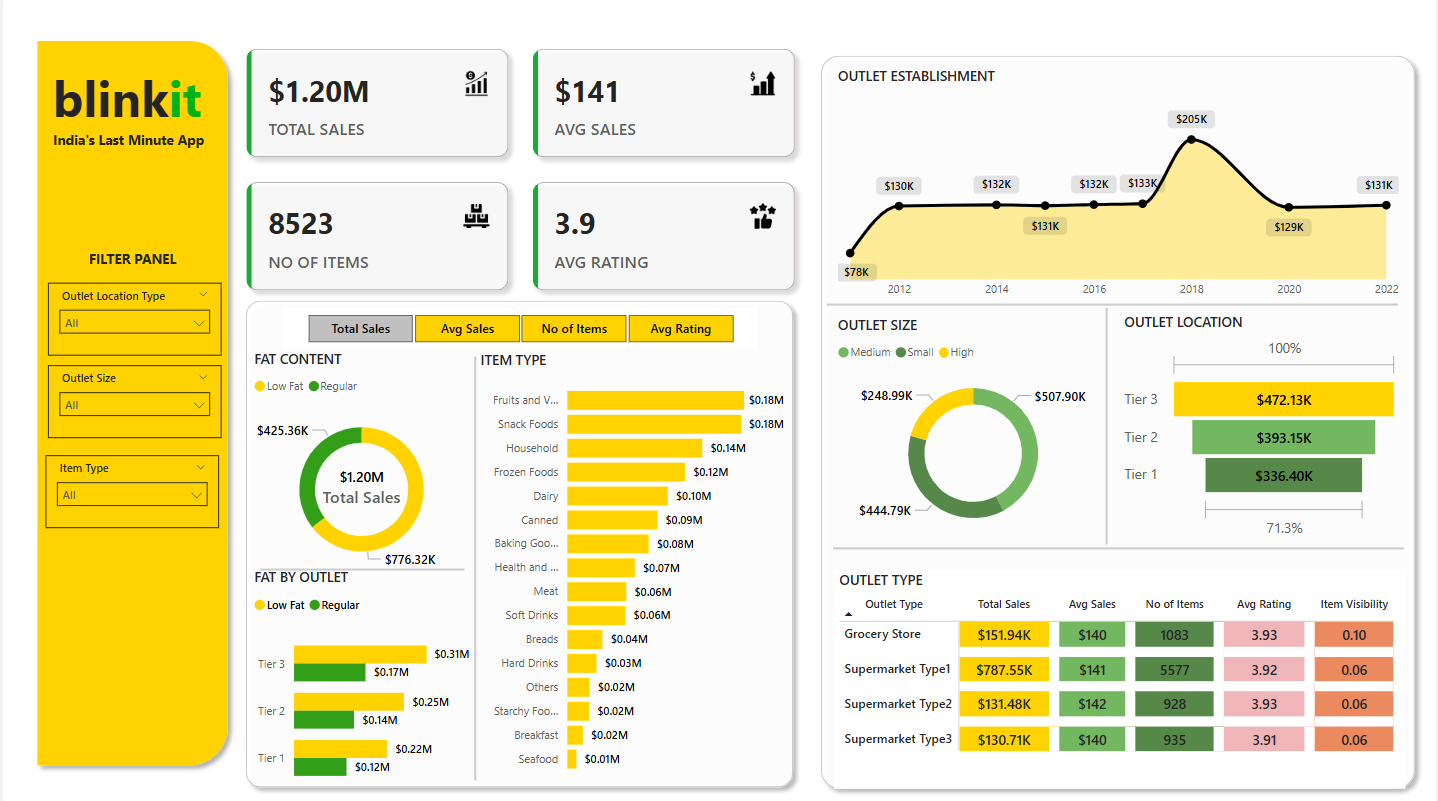

The page's visual inventory and layout, read from the dashboard file:
{"tool":"powerbi","page":{"name":"Page 1","canvas":[1400,800],"ordinal":0},"visuals":[{"type":"shape","box":[24.2,36.3,204.4,726.3],"z":0},{"type":"textbox","box":[44.4,63.2,169.5,78],"z":1000},{"type":"textbox","box":[24.2,127.8,196.4,28.2],"z":2000},{"type":"cardVisual","fields":{"Data":["BlinkIT Grocery Data.Total Sales","BlinkIT Grocery Data.Avg Sales","BlinkIT Grocery Data.No of Items","BlinkIT Grocery Data.Avg Rating"]},"box":[220.6,36.3,570.3,270.3],"z":3000},{"type":"shape","box":[228.6,290.5,552.8,493.6],"z":4000},{"type":"donutChart","title":"FAT CONTENT","fields":{"Y":["BlinkIT Grocery Data.Total Sales"],"Category":["BlinkIT Grocery Data.Item Fat Content"]},"box":[240.8,347,220.6,230],"z":5000},{"type":"slicer","fields":{"Values":["Metrics.Metrics"]},"box":[273,306.7,465.4,40.3],"z":6000},{"type":"cardVisual","fields":{"Data":["BlinkIT Grocery Data.Total Sales"]},"box":[291.9,443.8,117,78],"z":7000},{"type":"clusteredBarChart","title":"FAT BY OUTLET","fields":{"Y":["BlinkIT Grocery Data.Total Sales"],"Category":["BlinkIT Grocery Data.Outlet Location Type"],"Series":["BlinkIT Grocery Data.Item Fat Content"]},"box":[240.8,560.9,220.6,228.6],"z":8000},{"type":"barChart","title":"ITEM TYPE","fields":{"Y":["BlinkIT Grocery Data.Total Sales"],"Category":["BlinkIT Grocery Data.Item Type"]},"box":[461.3,348.4,306.7,423.7],"z":9000},{"type":"shape","box":[790.9,51.1,598.5,734.4],"z":10000},{"type":"lineChart","title":"OUTLET ESTABLISHMENT","fields":{"Y":["BlinkIT Grocery Data.Total Sales"],"Category":["BlinkIT Grocery Data.Outlet Establishment Year"]},"box":[811,71.3,558.2,235.4],"z":11000},{"type":"donutChart","title":"OUTLET SIZE","fields":{"Y":["BlinkIT Grocery Data.Total Sales"],"Category":["BlinkIT Grocery Data.Outlet Size"]},"box":[811,313.4,274.4,224.6],"z":12000},{"type":"funnel","title":"OUTLET LOCATION","fields":{"Y":["BlinkIT Grocery Data.Total Sales"],"Category":["BlinkIT Grocery Data.Outlet Location Type"]},"box":[1090.8,312,278.4,226],"z":13000},{"type":"shape","box":[811,535.3,558.2,13.4],"z":14000},{"type":"shape","box":[450.6,353.7,21.5,414.3],"z":15000},{"type":"shape","box":[1073.3,306.7,12.1,231.3],"z":16000},{"type":"shape","box":[251.5,548.8,199.1,28.2],"z":17000},{"type":"pivotTable","title":"OUTLET TYPE","fields":{"Rows":["BlinkIT Grocery Data.Outlet Type"],"Values":["BlinkIT Grocery Data.Total Sales","BlinkIT Grocery Data.Avg Sales","BlinkIT Grocery Data.No of Items","BlinkIT Grocery Data.Avg Rating","Avg(BlinkIT Grocery Data.Item Visibility)"]},"box":[812.4,563.6,558.2,213.9],"z":18000},{"type":"shape","box":[805.7,297.2,558.2,13.4],"z":19000},{"type":"slicer","fields":{"Values":["BlinkIT Grocery Data.Outlet Location Type"]},"box":[44.4,282.4,169.5,71.3],"z":20000},{"type":"slicer","fields":{"Values":["BlinkIT Grocery Data.Outlet Size"]},"box":[44.4,363.1,169.5,71.3],"z":21000},{"type":"slicer","fields":{"Values":["BlinkIT Grocery Data.Item Type"]},"box":[41.7,450.6,169.5,71.3],"z":22000},{"type":"textbox","box":[59.2,244.8,135.8,28.2],"z":23000}]}

Visuals, with their boxes in screenshot pixels (x1, y1, x2, y2), scaled from the page's 1400x800 canvas onto the 1438x801 screenshot:
shape: {"x1": 25, "y1": 36, "x2": 235, "y2": 764}
textbox: {"x1": 46, "y1": 63, "x2": 220, "y2": 141}
textbox: {"x1": 25, "y1": 128, "x2": 227, "y2": 156}
cardVisual - BlinkIT Grocery Data.Total Sales x BlinkIT Grocery Data.Avg Sales: {"x1": 227, "y1": 36, "x2": 812, "y2": 307}
shape: {"x1": 235, "y1": 291, "x2": 803, "y2": 785}
"FAT CONTENT" donutChart: {"x1": 247, "y1": 347, "x2": 474, "y2": 578}
slicer - Metrics.Metrics: {"x1": 280, "y1": 307, "x2": 758, "y2": 347}
cardVisual - BlinkIT Grocery Data.Total Sales: {"x1": 300, "y1": 444, "x2": 420, "y2": 522}
"FAT BY OUTLET" clusteredBarChart: {"x1": 247, "y1": 562, "x2": 474, "y2": 790}
"ITEM TYPE" barChart: {"x1": 474, "y1": 349, "x2": 789, "y2": 773}
shape: {"x1": 812, "y1": 51, "x2": 1427, "y2": 786}
"OUTLET ESTABLISHMENT" lineChart: {"x1": 833, "y1": 71, "x2": 1406, "y2": 307}
"OUTLET SIZE" donutChart: {"x1": 833, "y1": 314, "x2": 1115, "y2": 539}
"OUTLET LOCATION" funnel: {"x1": 1120, "y1": 312, "x2": 1406, "y2": 539}
shape: {"x1": 833, "y1": 536, "x2": 1406, "y2": 549}
shape: {"x1": 463, "y1": 354, "x2": 485, "y2": 769}
shape: {"x1": 1102, "y1": 307, "x2": 1115, "y2": 539}
shape: {"x1": 258, "y1": 549, "x2": 463, "y2": 578}
"OUTLET TYPE" pivotTable: {"x1": 834, "y1": 564, "x2": 1408, "y2": 778}
shape: {"x1": 828, "y1": 298, "x2": 1401, "y2": 311}
slicer - BlinkIT Grocery Data.Outlet Location Type: {"x1": 46, "y1": 283, "x2": 220, "y2": 354}
slicer - BlinkIT Grocery Data.Outlet Size: {"x1": 46, "y1": 364, "x2": 220, "y2": 435}
slicer - BlinkIT Grocery Data.Item Type: {"x1": 43, "y1": 451, "x2": 217, "y2": 523}
textbox: {"x1": 61, "y1": 245, "x2": 200, "y2": 273}
